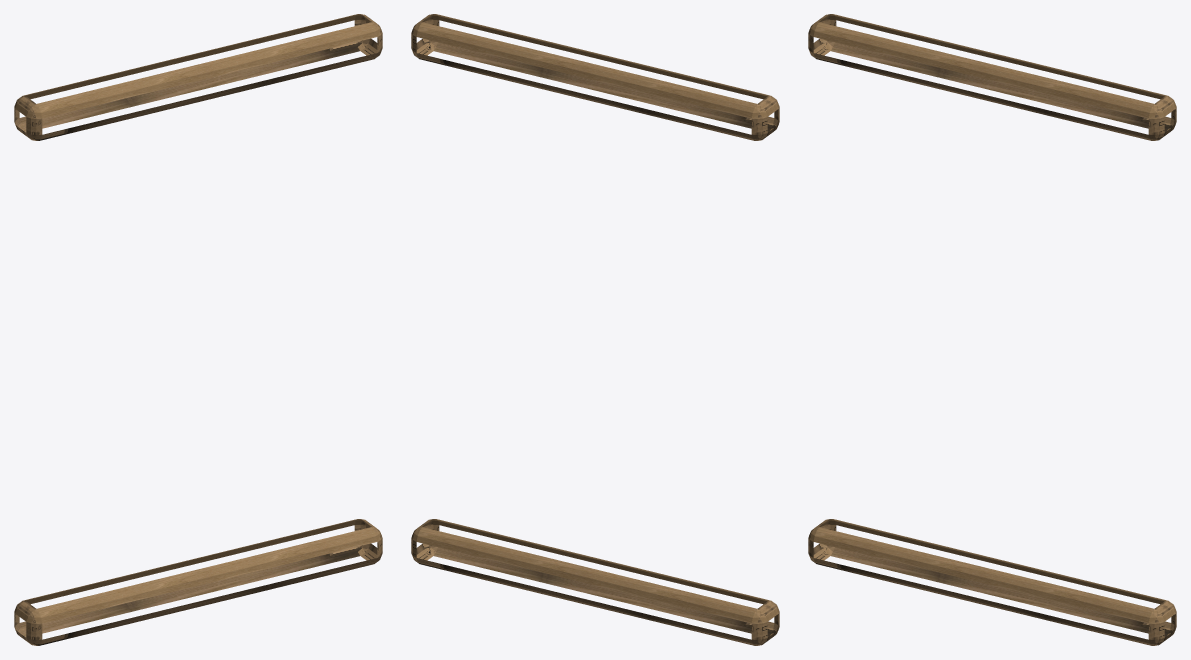
The model's file is MilesDeskWithFile2.obj.
3 views of the same model, side by side, from view 1: azimuth 30°, elevation 25°; view 2: azimuth 150°, elevation 25°; view 3: azimuth 330°, elevation 25° (orthographic).
Visible parts, largest first — view 1: MilesDeskWithFileH; view 2: MilesDeskWithFileH; view 3: MilesDeskWithFileH.
Part boxes in pixels (x1,y1,x2,y2): MilesDeskWithFileH: (14, 14, 382, 645); MilesDeskWithFileH: (411, 14, 779, 645); MilesDeskWithFileH: (808, 14, 1176, 645).
Bounding box in the file's own units: 6.23 × 9.08 × 0.6934.
